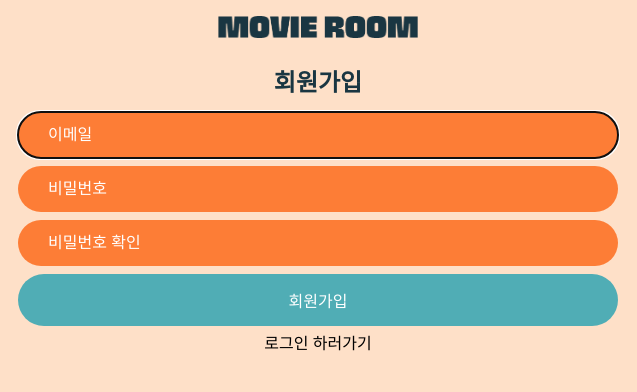
Test: signup page › should render 'invalidEmail' error message
Type "1" into the field with placeholder "이메일".
click(318, 135); type("1")  # box x1=18 y1=112 x2=618 y2=158
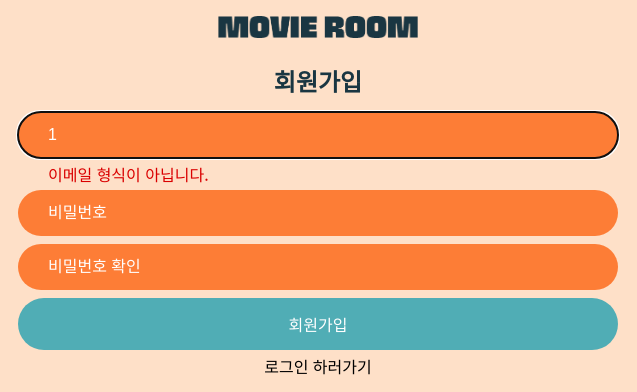
Result: the text "이메일 형식이 아닙니다." is shown at x1=48 y1=162 x2=209 y2=186
